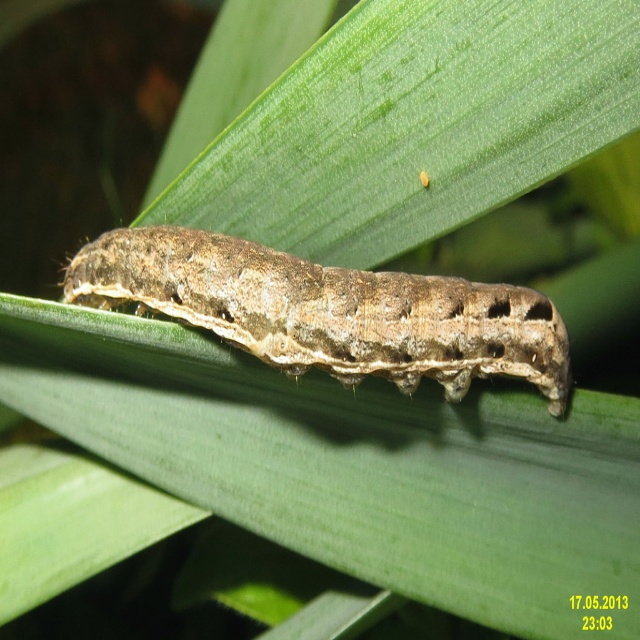Caterpillar: (44, 217, 572, 418)
